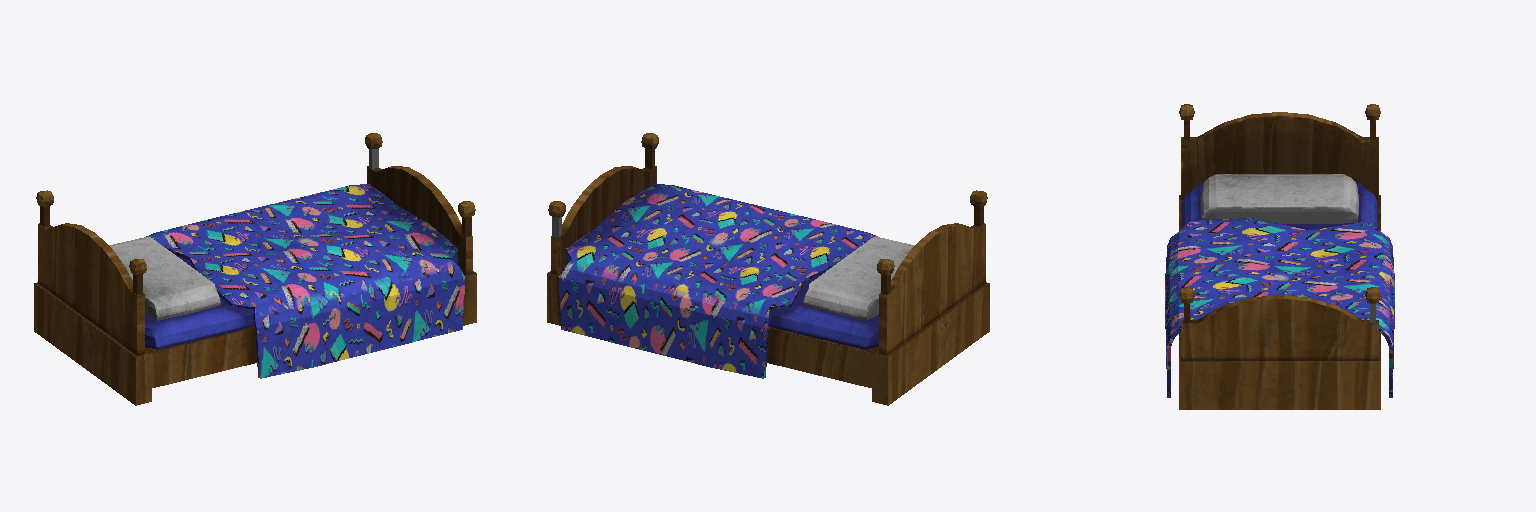
3 views of the same model, side by side, from view 1: azimuth 30°, elevation 25°; view 2: azimuth 150°, elevation 25°; view 3: azimuth 270°, elevation 25° (orthographic).
Visible parts, largest first — view 1: Cube.007; view 2: Cube.007; view 3: Cube.007.
Part boxes in pixels (bbox=[...]): Cube.007: bbox=[34, 133, 476, 405]; Cube.007: bbox=[547, 133, 989, 405]; Cube.007: bbox=[1165, 104, 1394, 409].
Size of the model in its own units: 3.91 by 1.54 by 2.26.
1 materials, 1 textured.